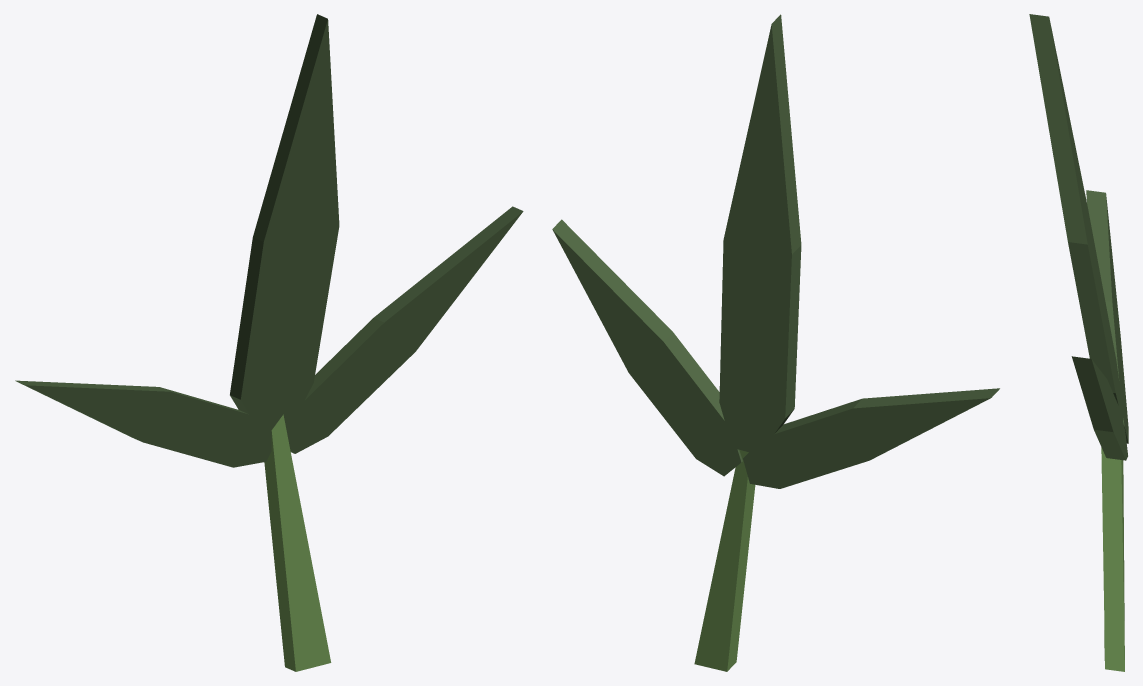
File: Bamboo_1.gltf
The picture shows the model from 3 angles, left to right: view 1: azimuth 30°, elevation 25°; view 2: azimuth 150°, elevation 25°; view 3: azimuth 270°, elevation 25°; orthographic projection. The views are drawn at different scales.
Visible parts, largest first — view 1: Bamboo_1; view 2: Bamboo_1; view 3: Bamboo_1.
Part boxes in pixels (x1=…): Bamboo_1: x1=15, y1=14, x2=523, y2=671; Bamboo_1: x1=552, y1=14, x2=999, y2=671; Bamboo_1: x1=1029, y1=14, x2=1128, y2=671.
Size of the model in its own units: 0.3829 by 0.5129 by 0.0723.
